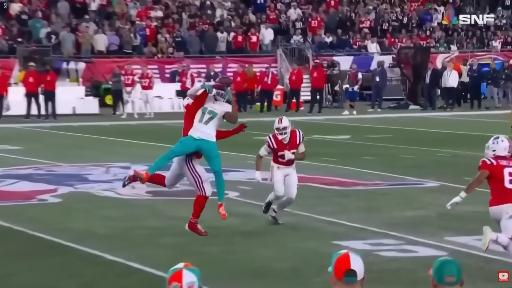Helmet: (485, 135, 512, 157), (274, 117, 291, 139), (212, 89, 232, 102), (183, 97, 193, 109)
Jersey: (189, 96, 231, 141), (479, 156, 511, 206), (265, 130, 304, 166), (183, 90, 208, 136), (139, 72, 153, 90), (122, 70, 136, 87)
Player: (134, 77, 238, 218), (447, 136, 511, 253), (256, 117, 305, 223), (147, 154, 211, 235), (138, 65, 154, 117), (122, 65, 137, 118)
